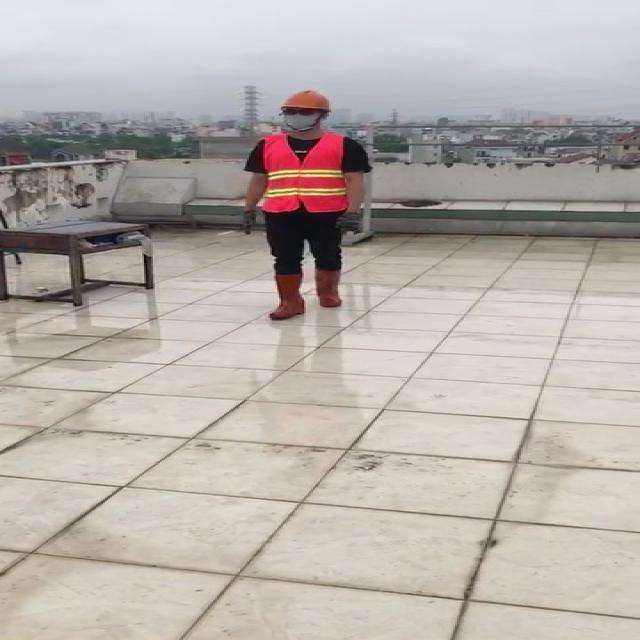gloves: (335, 212, 362, 236), (241, 209, 257, 236)
goggles: (281, 108, 319, 118)
helmet: (278, 89, 335, 112)
safety_vest: (261, 132, 350, 214)
